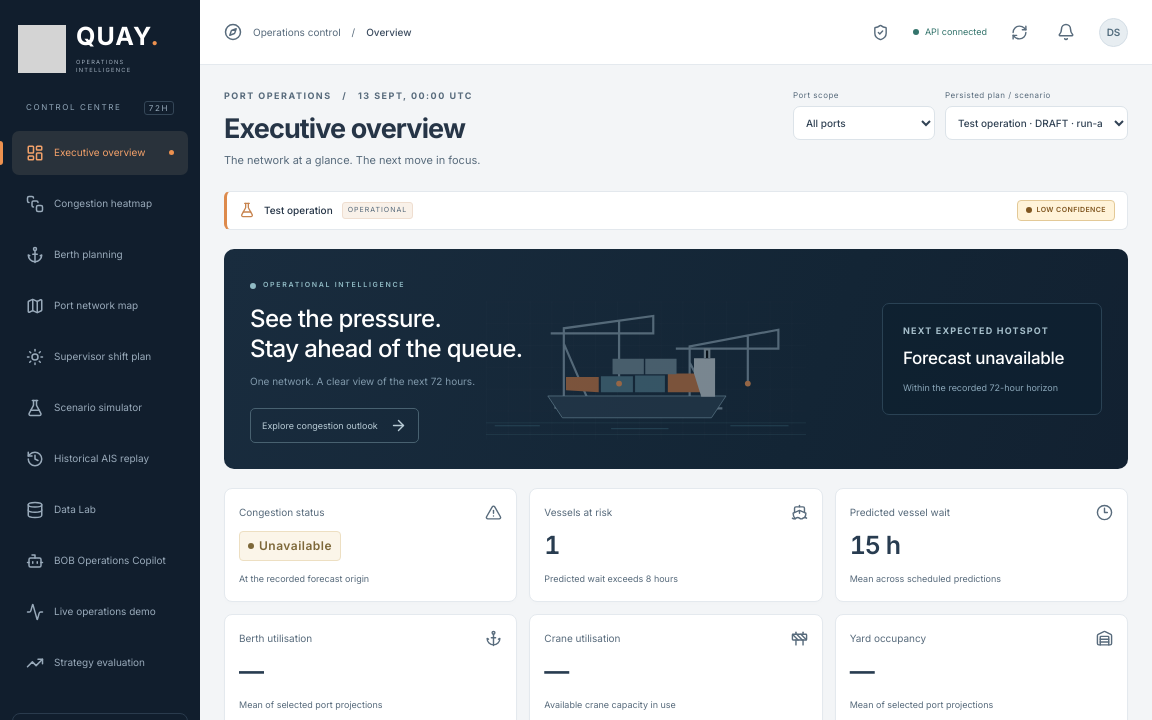
operations command centre › uses revision-checked review before approval
Step 1. Click the button "Supervisor shift plan" → coordinates (100, 357), box 12,335 -> 188,379
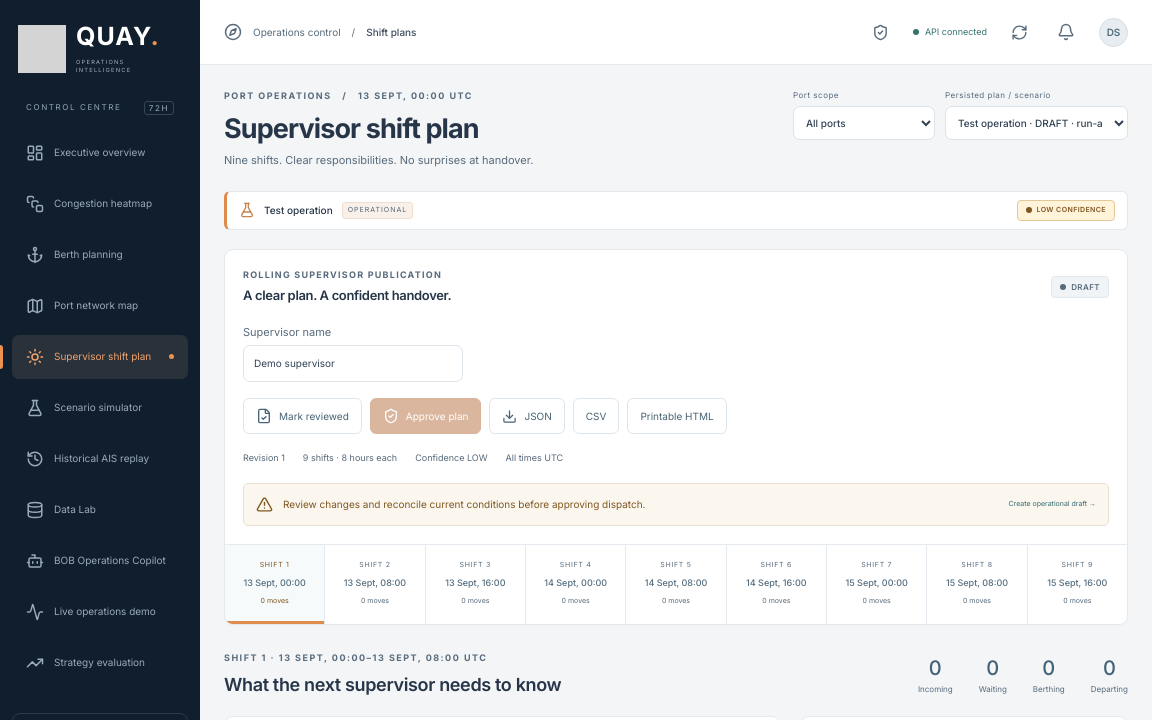
Result: the button "Approve plan" is disabled at 370,398 -> 482,434
Step 2. Replace the text in the field labelled "Supervisor name" with "Shift lead" → coordinates (353, 364), box 243,345 -> 463,382
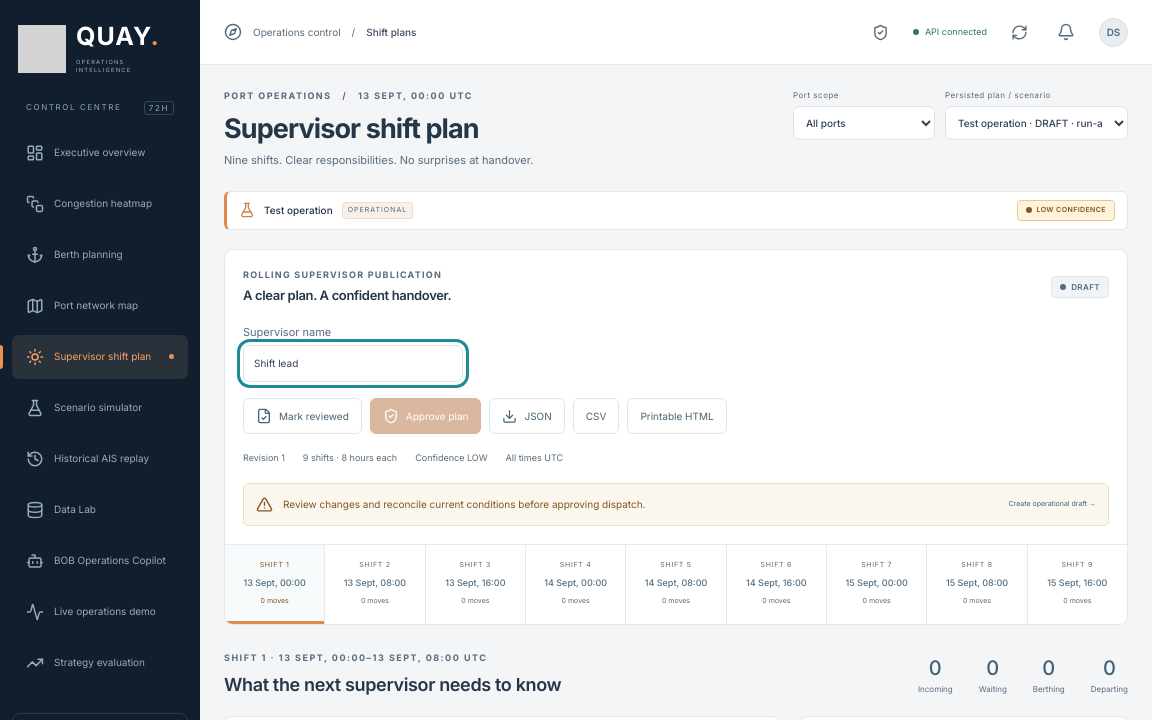
Step 3. Click the button "Mark reviewed" → coordinates (302, 416), box 243,398 -> 362,434
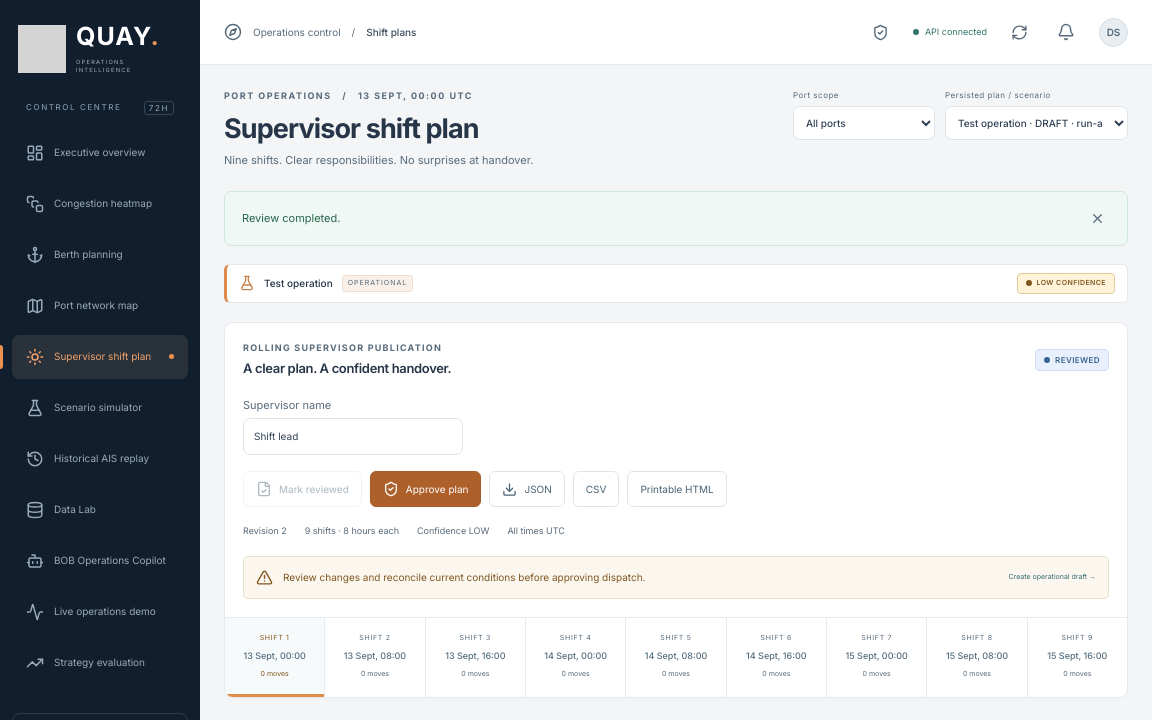
Result: the button "Approve plan" is enabled
Step 4. Click the button "Approve plan" → coordinates (426, 489), box 370,471 -> 482,507
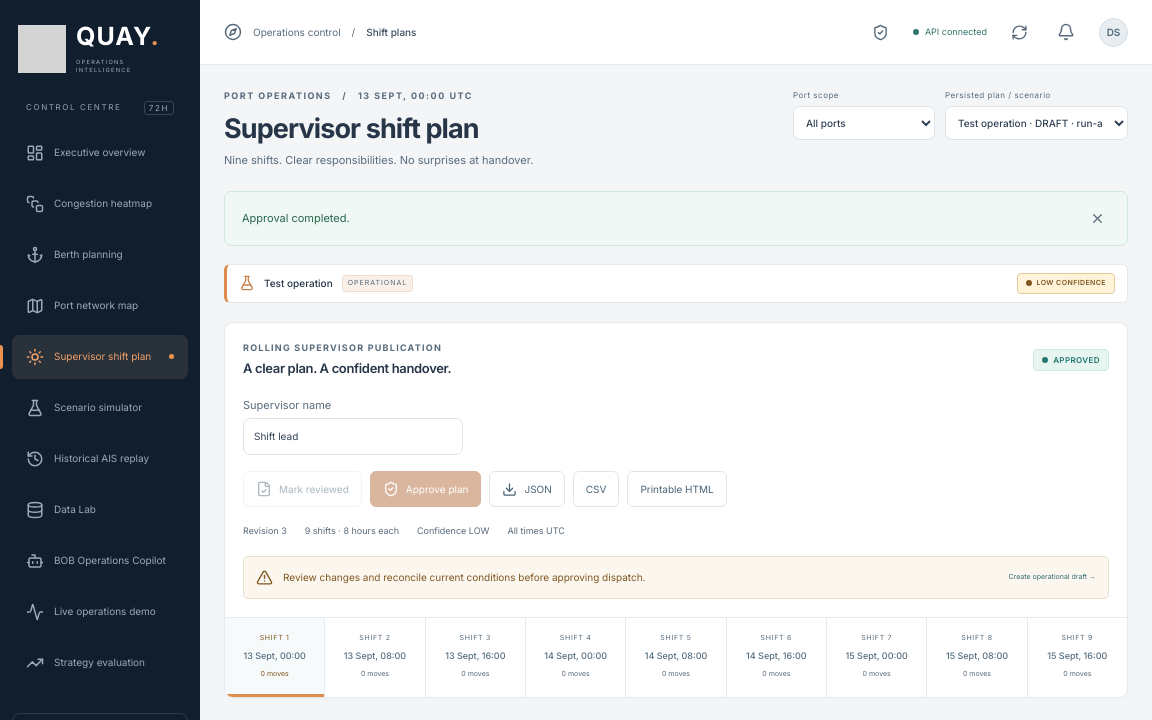
Result: the text "APPROVED" is shown at 1033,349 -> 1109,371
